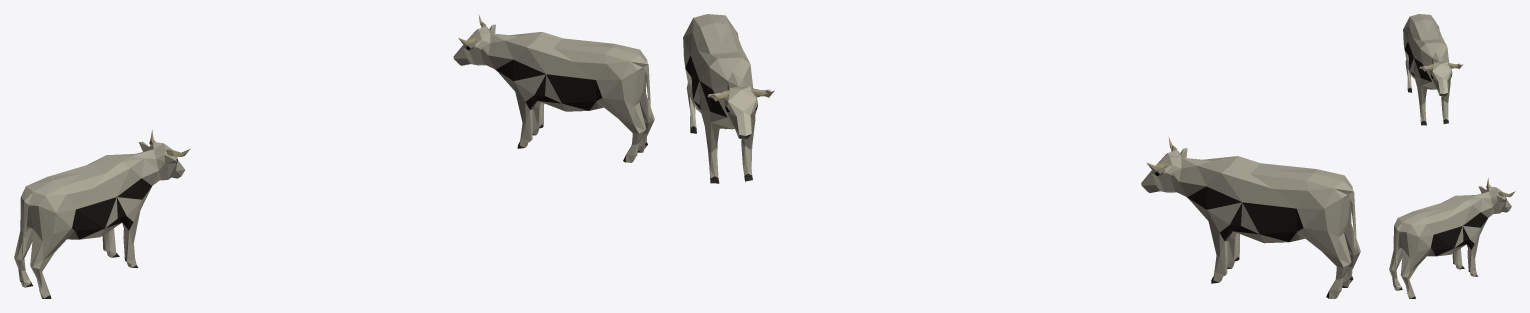
File: cattle2.glb
3 renders of one model, left to right at view 1: azimuth 30°, elevation 25°; view 2: azimuth 150°, elevation 25°; view 3: azimuth 270°, elevation 25°, orthographic. The views are drawn at different scales.
Parts seen in each view (by area): view 1: cattle2; view 2: cattle2; view 3: cattle2.
Part boxes in pixels (x1,y1,x2,y2): cattle2: (14, 14, 654, 298); cattle2: (683, 14, 1360, 298); cattle2: (1389, 14, 1515, 298).
Bounding box in the file's own units: 48.23 × 7.98 × 11.84.
